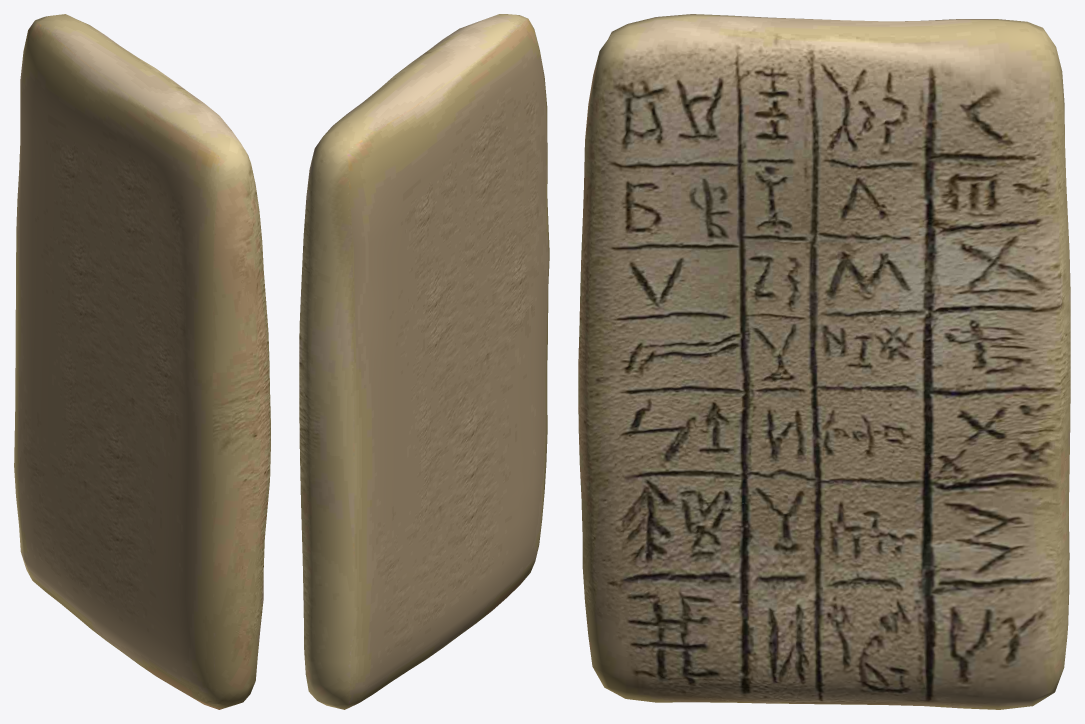
The model's file is Clay_tablet.gltf.
The picture shows the model from 3 angles, left to right: view 1: azimuth 30°, elevation 25°; view 2: azimuth 150°, elevation 25°; view 3: azimuth 270°, elevation 25°; orthographic projection. The views are drawn at different scales.
Parts seen in each view (by area): view 1: Clay_tablet; view 2: Clay_tablet; view 3: Clay_tablet.
Part boxes in pixels (x1=…): Clay_tablet: x1=14, y1=14, x2=270, y2=709; Clay_tablet: x1=299, y1=14, x2=549, y2=709; Clay_tablet: x1=578, y1=14, x2=1070, y2=709.
Size of the model in its own units: 0.2534 by 1.96 by 1.28.
1 material, 1 textured.
